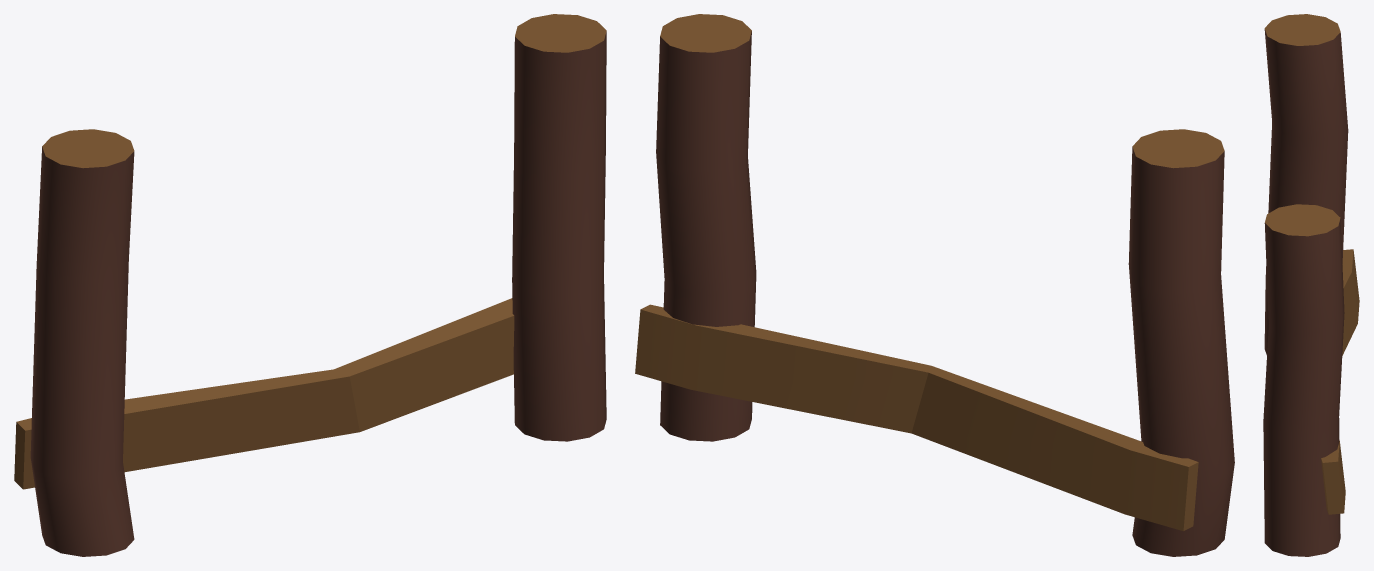
The model's file is WoodSemiRoundFence_Damaged2.fbx.
The picture shows the model from 3 angles, left to right: view 1: azimuth 30°, elevation 25°; view 2: azimuth 150°, elevation 25°; view 3: azimuth 270°, elevation 25°; orthographic projection. The views are drawn at different scales.
Visible parts, largest first — view 1: WoodSemiRoundFence_Damaged2; view 2: WoodSemiRoundFence_Damaged2; view 3: WoodSemiRoundFence_Damaged2.
Boxes of the visible parts, x1,y1,x2,y2 form: WoodSemiRoundFence_Damaged2: [14, 14, 606, 556]; WoodSemiRoundFence_Damaged2: [635, 14, 1234, 556]; WoodSemiRoundFence_Damaged2: [1263, 14, 1359, 556].
Bounding box in the file's own units: 266 × 174 × 47.31.
